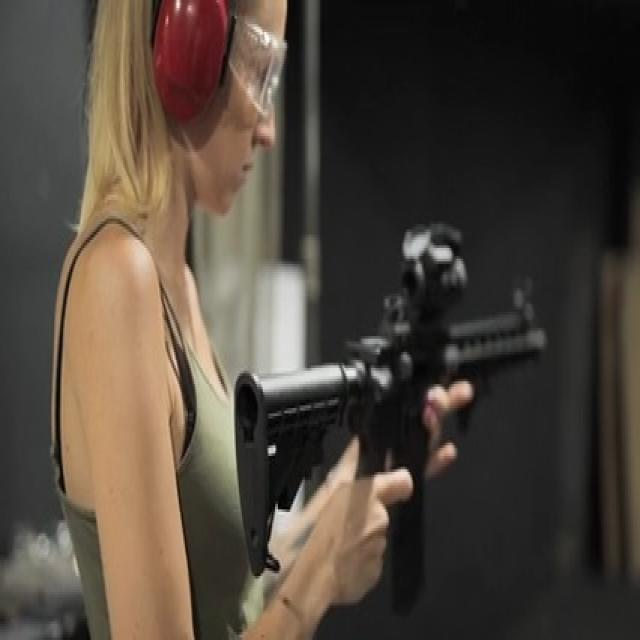Gun_Holder: (207, 224, 589, 640)
Person: (52, 0, 392, 640)
